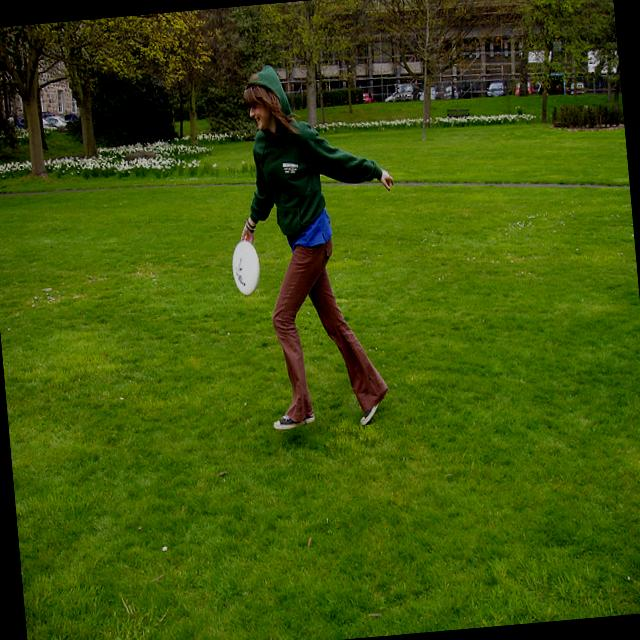Vehicle: (383, 88, 420, 104), (537, 78, 563, 96), (486, 80, 512, 96), (513, 79, 533, 95), (44, 114, 66, 128), (442, 85, 462, 99), (566, 82, 584, 95), (43, 117, 58, 132), (362, 91, 374, 102)
